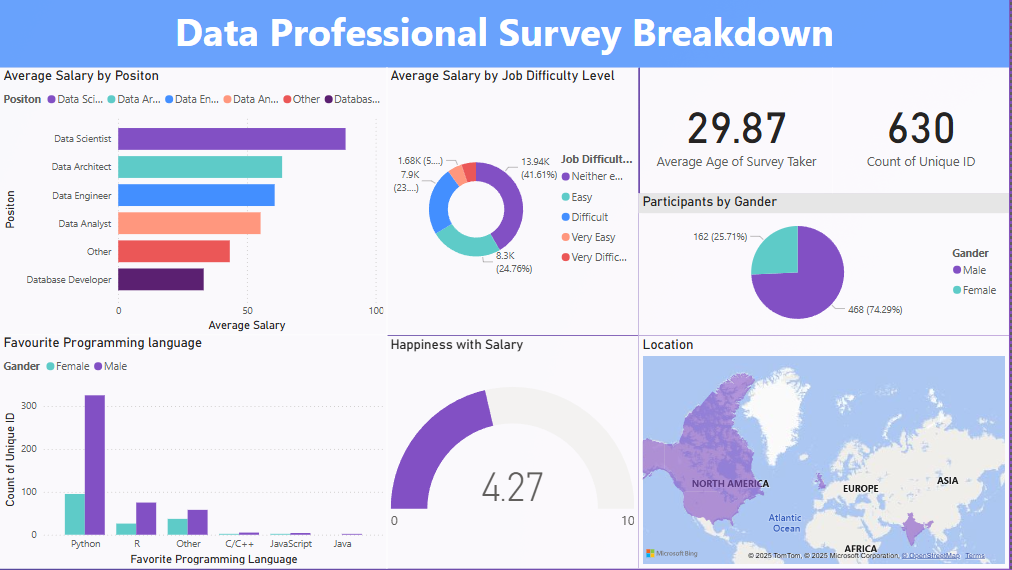

What the dashboard file says about the page in this screenshot:
{"tool":"powerbi","page":{"name":"Page 1","canvas":[1280,720],"ordinal":0},"visuals":[{"type":"textbox","box":[9.4,0,1269.9,85],"z":0},{"type":"card","title":"Total Unique ID","fields":{"Values":["CountNonNull(Data Professional Survey.Unique ID)"]},"box":[1056.4,85,223,158.7],"z":1000},{"type":"card","fields":{"Values":["Avg(Data Professional Survey.Age)"]},"box":[814.5,85,241.9,158.7],"z":2000},{"type":"barChart","title":"Average Salary by Positon","fields":{"Category":["Data Professional Survey.Positon"],"Y":["Avg(Data Professional Survey.Average Salary)"],"Series":["Data Professional Survey.Positon"]},"box":[9.2,84.7,487.8,336.9],"z":3000},{"type":"clusteredColumnChart","title":"Favourite Programming language","fields":{"Category":["Data Professional Survey.Favorite Programming Language"],"Y":["CountNonNull(Data Professional Survey.Unique ID)"],"Series":["Data Professional Survey.Gander"]},"box":[9.2,421.6,487.8,294.5],"z":4000},{"type":"pieChart","title":"Participants by Gander","fields":{"Y":["CountNonNull(Data Professional Survey.Unique ID)"],"Category":["Data Professional Survey.Gander"]},"box":[813.7,243,465.7,178.6],"z":5000},{"type":"filledMap","fields":{"Category":["Data Professional Survey.Location"]},"box":[813.7,423.4,465.7,292.7],"z":6000},{"type":"gauge","title":"Happiness with Salary","fields":{"Y":["Avg(Data Professional Survey.Q6 - How Happy are you in your Current Position with the following? (Salary))"],"MinValue":["Min(Data Professional Survey.Q6 - How Happy are you in your Current Position with the following? (Salary))1"],"MaxValue":["Max(Data Professional Survey.Q6 - How Happy are you in your Current Position with the following? (Salary))2"]},"box":[497,423.4,316.6,292.7],"z":7000},{"type":"donutChart","title":" Average Salary by Job Difficulty Level","fields":{"Y":["Sum(Data Professional Survey.Average Salary)"],"Category":["Data Professional Survey.Job Difficulty Level"]},"box":[497,84.7,316.6,336.9],"z":8000}]}

Visuals, with their boxes in screenshot pixels (x1, y1, x2, y2), scaled from the page's 1280x720 canvas onto the 1012x570 screenshot:
textbox: 7,0,1011,67
"Total Unique ID" card: 835,67,1011,193
card - Avg(Data Professional Survey.Age): 644,67,835,193
"Average Salary by Positon" barChart: 7,67,393,334
"Favourite Programming language" clusteredColumnChart: 7,334,393,567
"Participants by Gander" pieChart: 643,192,1011,334
filledMap - Data Professional Survey.Location: 643,335,1011,567
"Happiness with Salary" gauge: 393,335,643,567
" Average Salary by Job Difficulty Level" donutChart: 393,67,643,334
